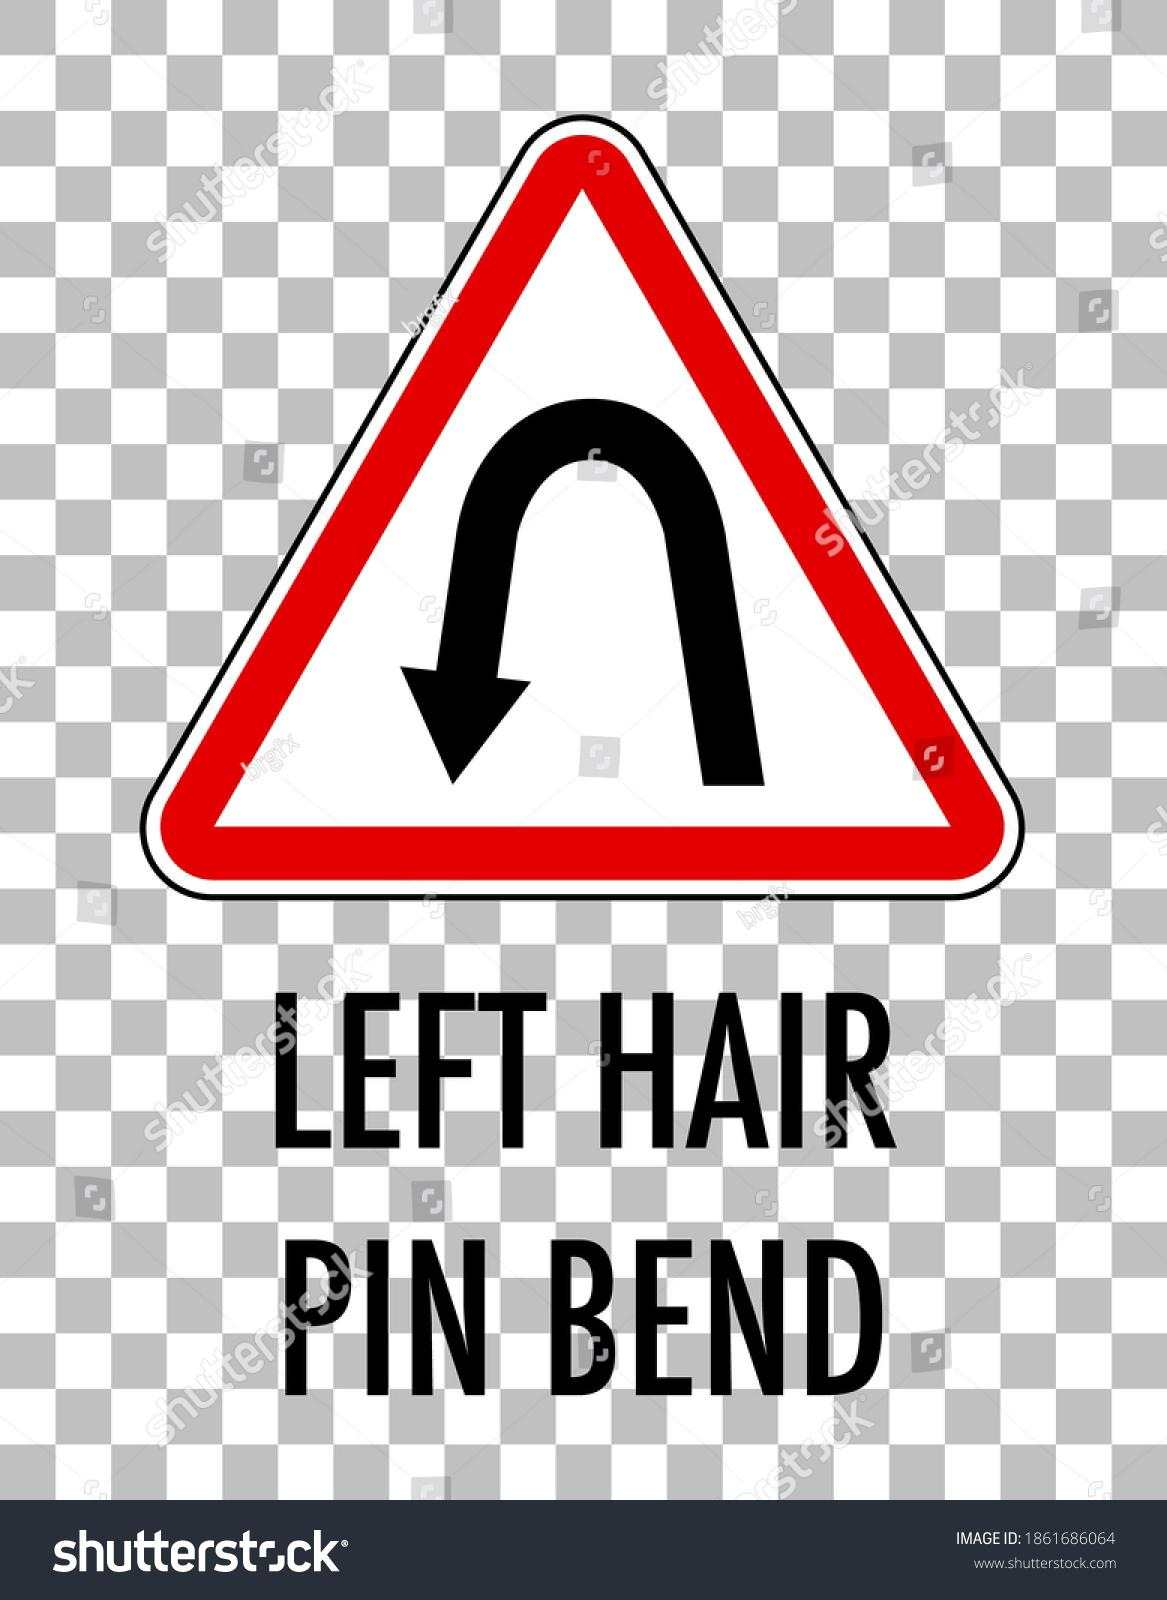Left Hair Pin Bend: (154, 108, 1038, 1348)
